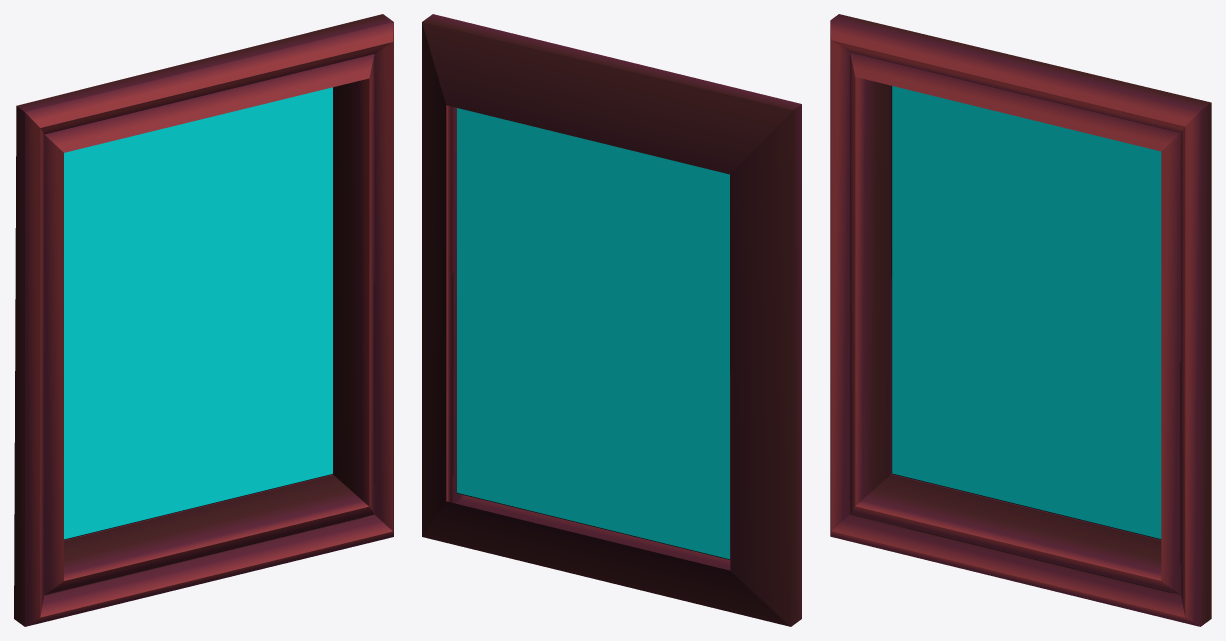
File: quadro.fbx
The picture shows the model from 3 angles, left to right: view 1: azimuth 30°, elevation 25°; view 2: azimuth 150°, elevation 25°; view 3: azimuth 330°, elevation 25°; orthographic projection.
Parts seen in each view (by area): view 1: Quadro; view 2: Quadro; view 3: Quadro.
Boxes of the visible parts, x1=… form: Quadro: x1=14, y1=14, x2=393, y2=626; Quadro: x1=422, y1=14, x2=801, y2=626; Quadro: x1=830, y1=14, x2=1211, y2=626.
Bounding box in the file's own units: 390 × 66.94 × 520.
